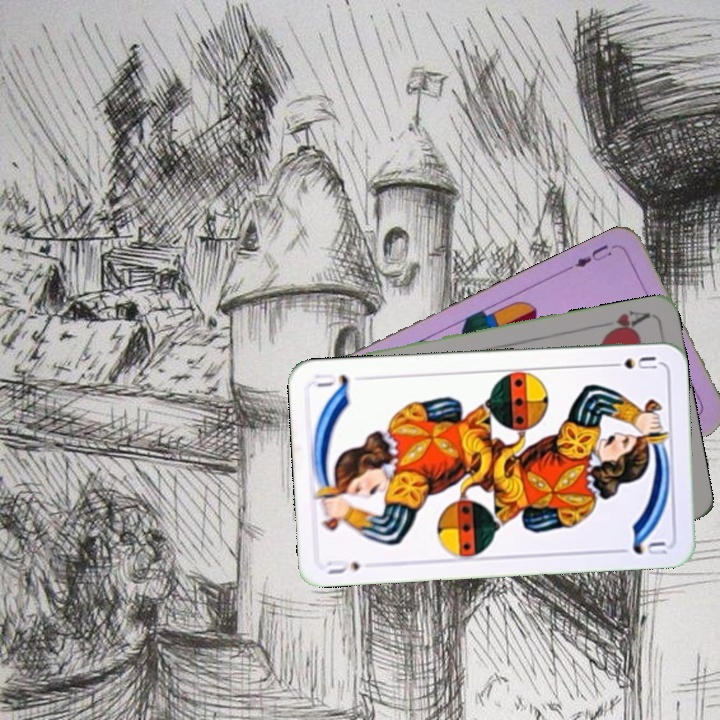EU: (571, 240, 614, 270)
HA: (599, 306, 653, 339)
SU: (602, 352, 660, 372), (323, 555, 363, 577)
